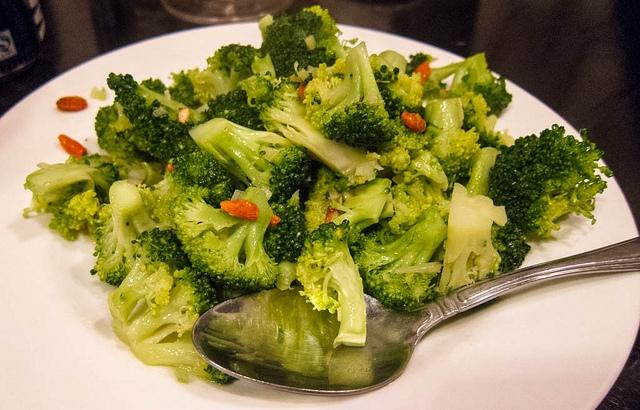broccoli: (109, 228, 236, 384), (486, 124, 614, 238), (168, 186, 280, 292), (188, 118, 314, 205), (259, 78, 369, 176), (350, 205, 448, 313), (304, 40, 399, 150), (295, 219, 367, 348), (87, 179, 172, 286), (22, 152, 122, 242), (466, 147, 531, 278), (440, 182, 508, 296), (258, 4, 344, 80), (423, 53, 512, 119), (422, 97, 482, 191), (388, 149, 451, 235), (126, 104, 203, 160), (94, 104, 160, 162), (196, 42, 262, 100), (262, 189, 308, 265), (460, 91, 516, 151), (304, 164, 352, 234), (331, 178, 392, 232), (374, 66, 423, 119), (140, 70, 204, 110), (170, 149, 230, 189), (374, 139, 410, 174), (378, 50, 408, 74), (111, 101, 133, 131), (397, 72, 421, 95), (408, 148, 426, 160)
